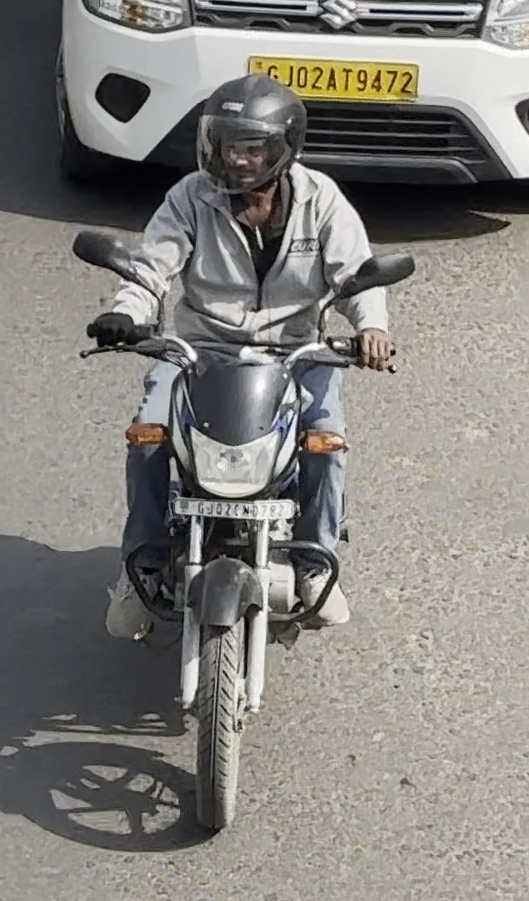BikeWithRider: (62, 57, 426, 856)
Helmet: (191, 59, 309, 201)
